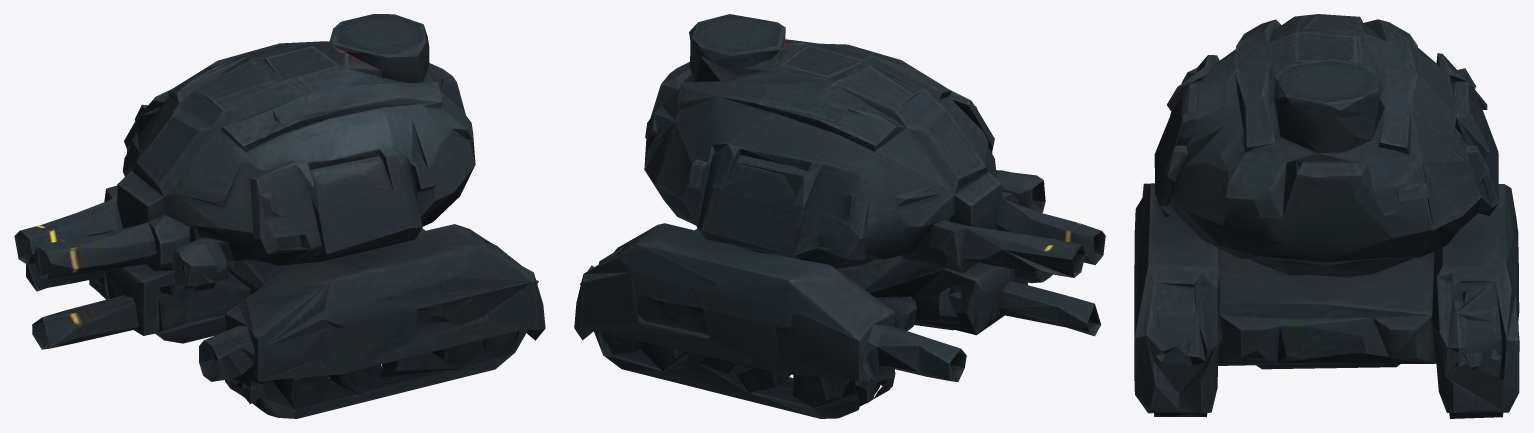
Rendered from bigturret.glb.
3 views of the same model, side by side, from view 1: azimuth 30°, elevation 25°; view 2: azimuth 150°, elevation 25°; view 3: azimuth 270°, elevation 25° (orthographic). The views are drawn at different scales.
Size of the model in its own units: 1.86 by 1.17 by 1.29.
Materials: 1 (1 with a texture image).
